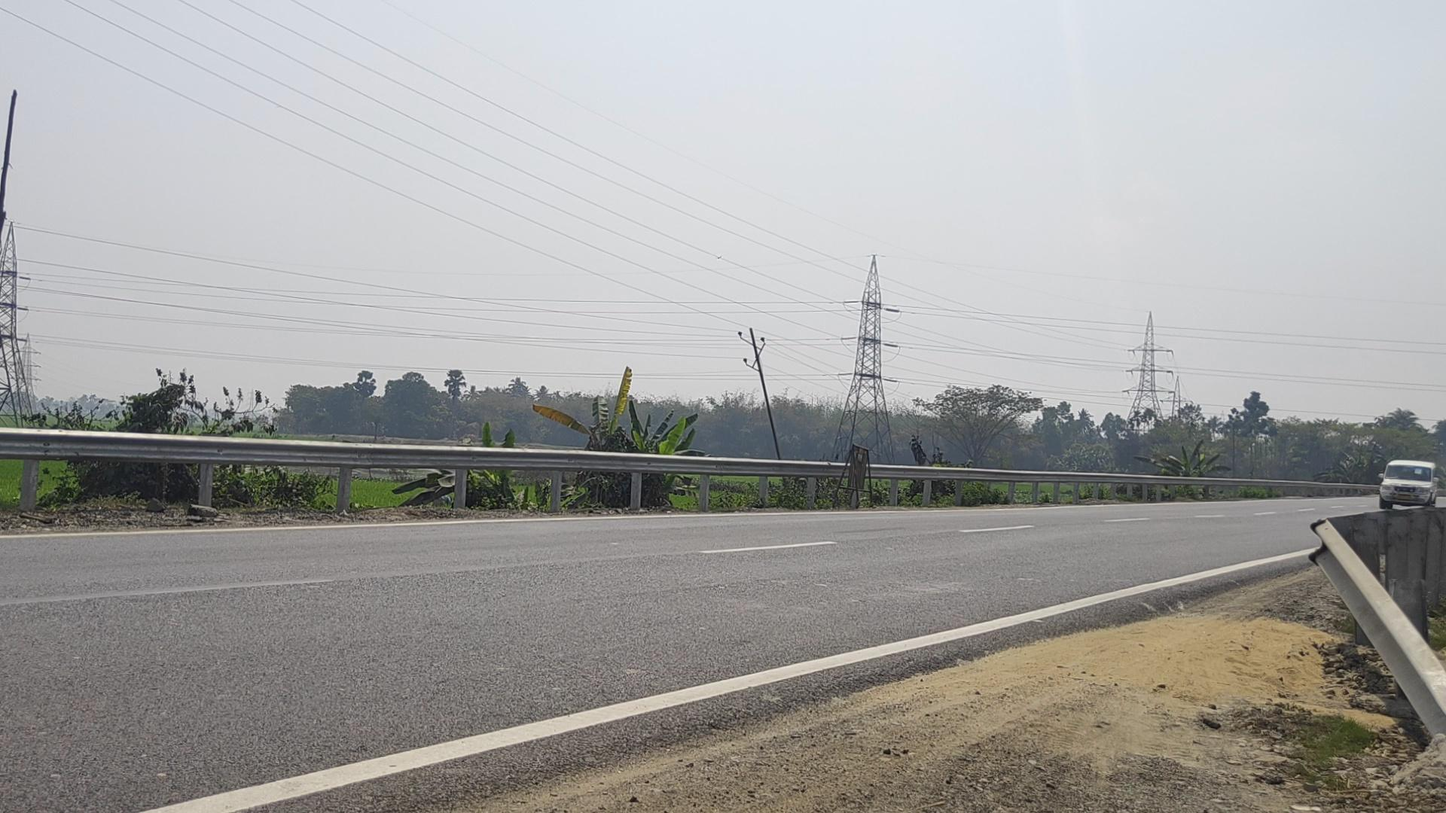car: (1377, 459, 1438, 510)
